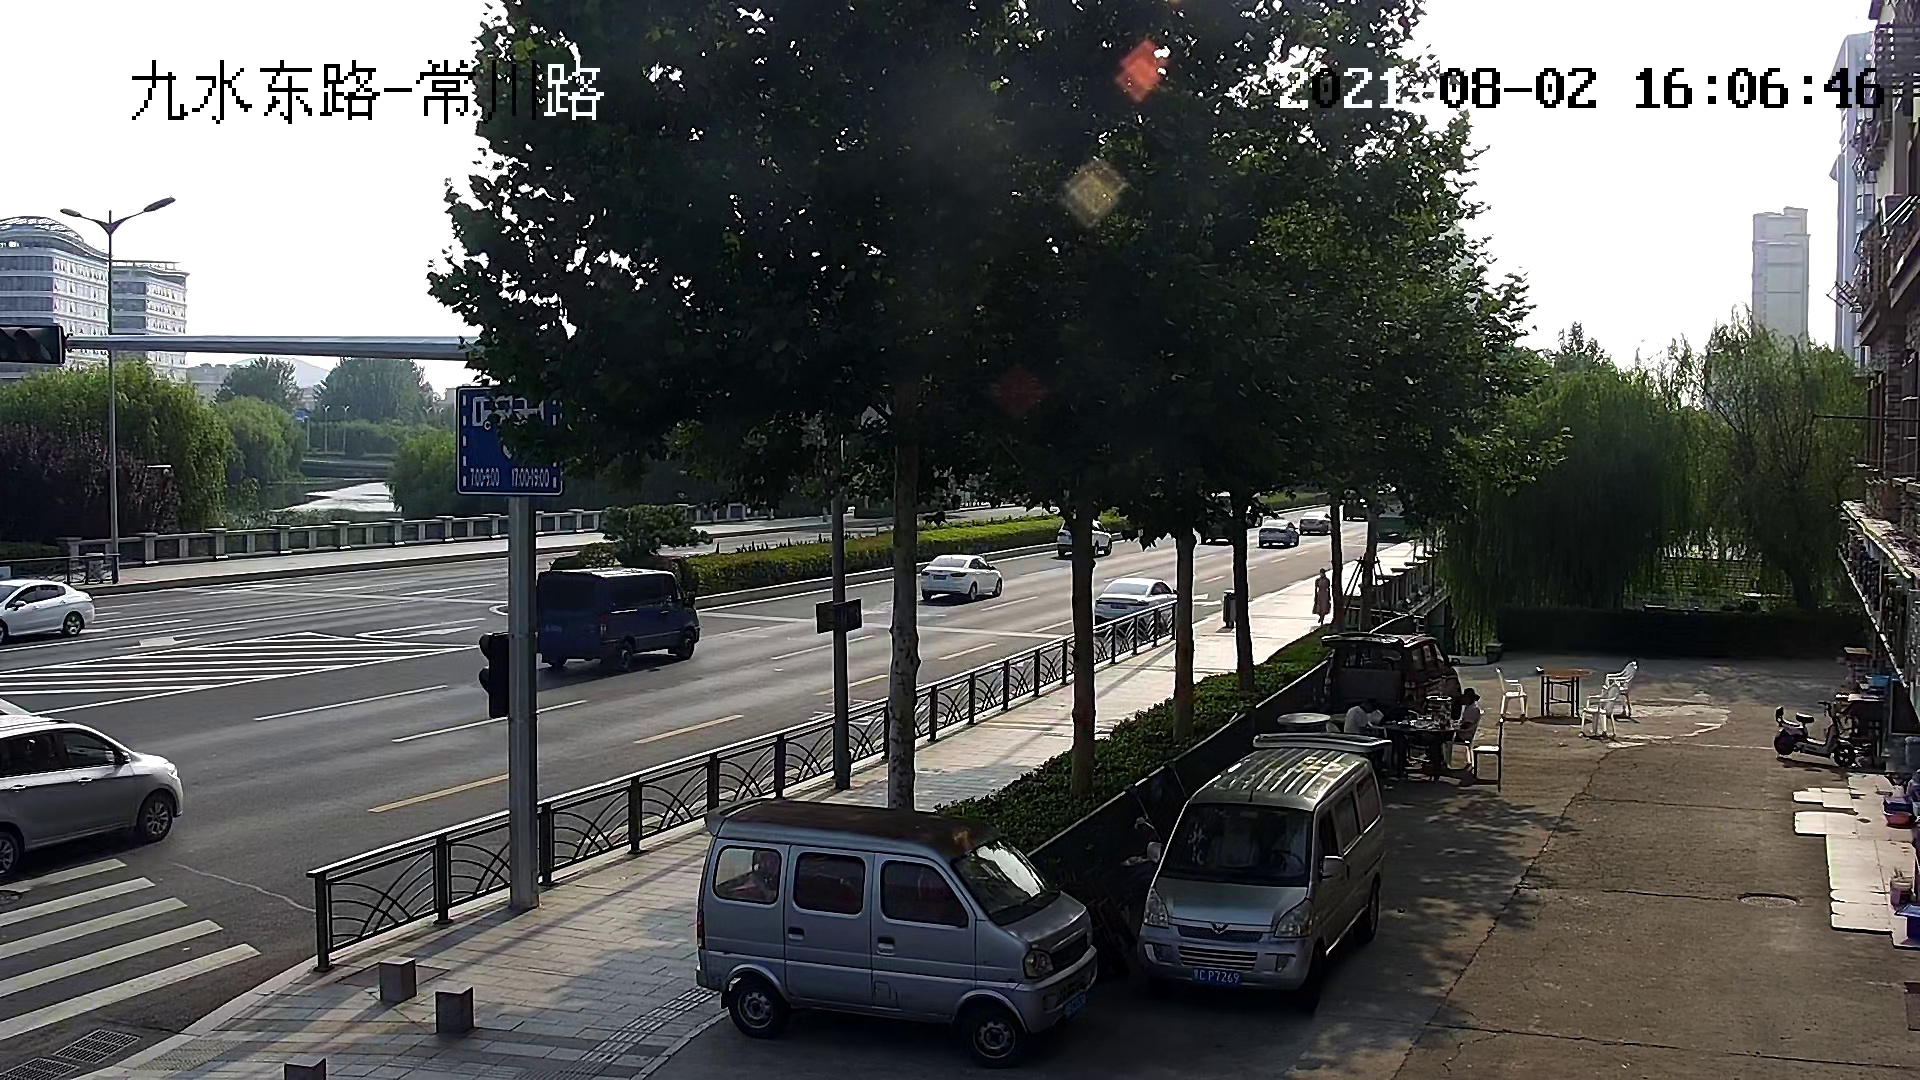chair: (1601, 659, 1638, 717), (1580, 682, 1619, 736), (1472, 717, 1505, 781), (1448, 708, 1484, 765), (1494, 666, 1528, 717)
table: (1379, 721, 1455, 782), (1531, 669, 1594, 717)
table_chair: (1493, 658, 1639, 737), (1378, 707, 1505, 783)
